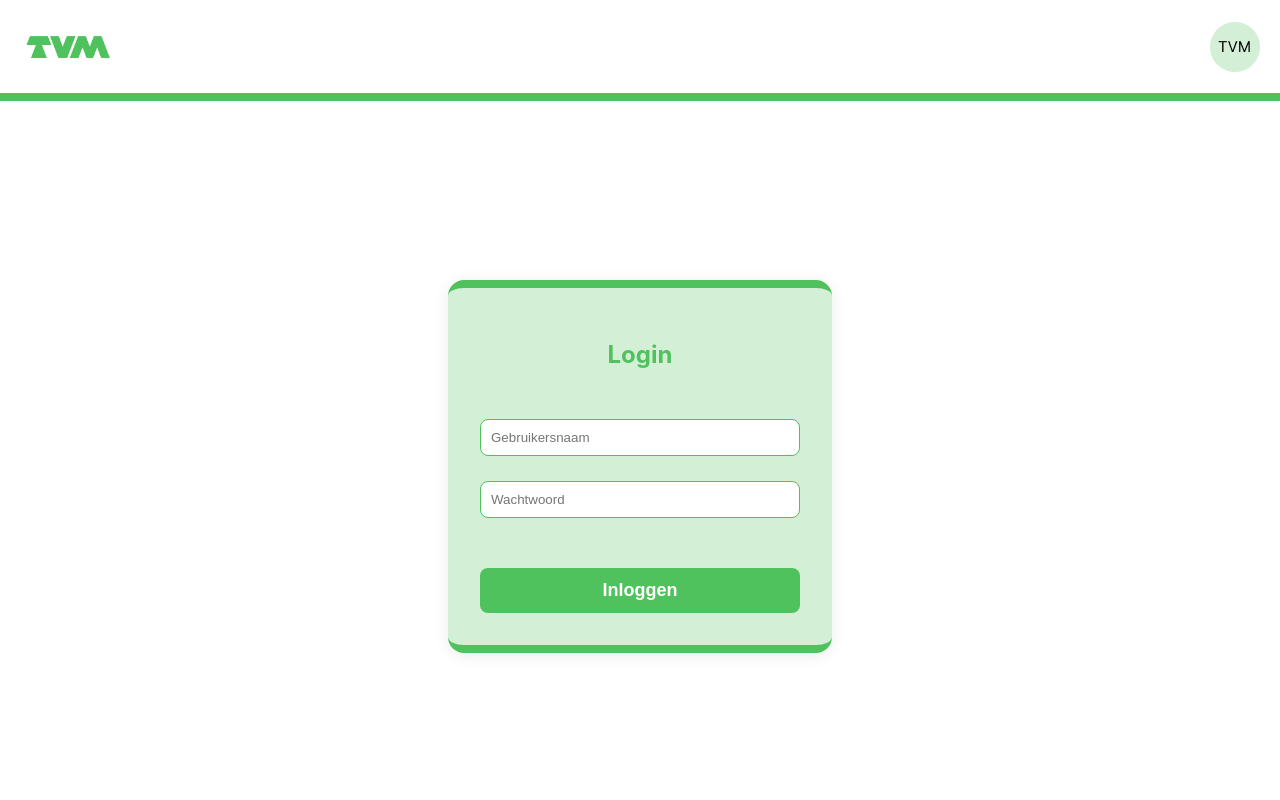
Scenario: Shows error message on failed login
In the field with placeholder "Gebruikersnaam": (640, 438) [480, 419, 800, 456], type "invalidUser"
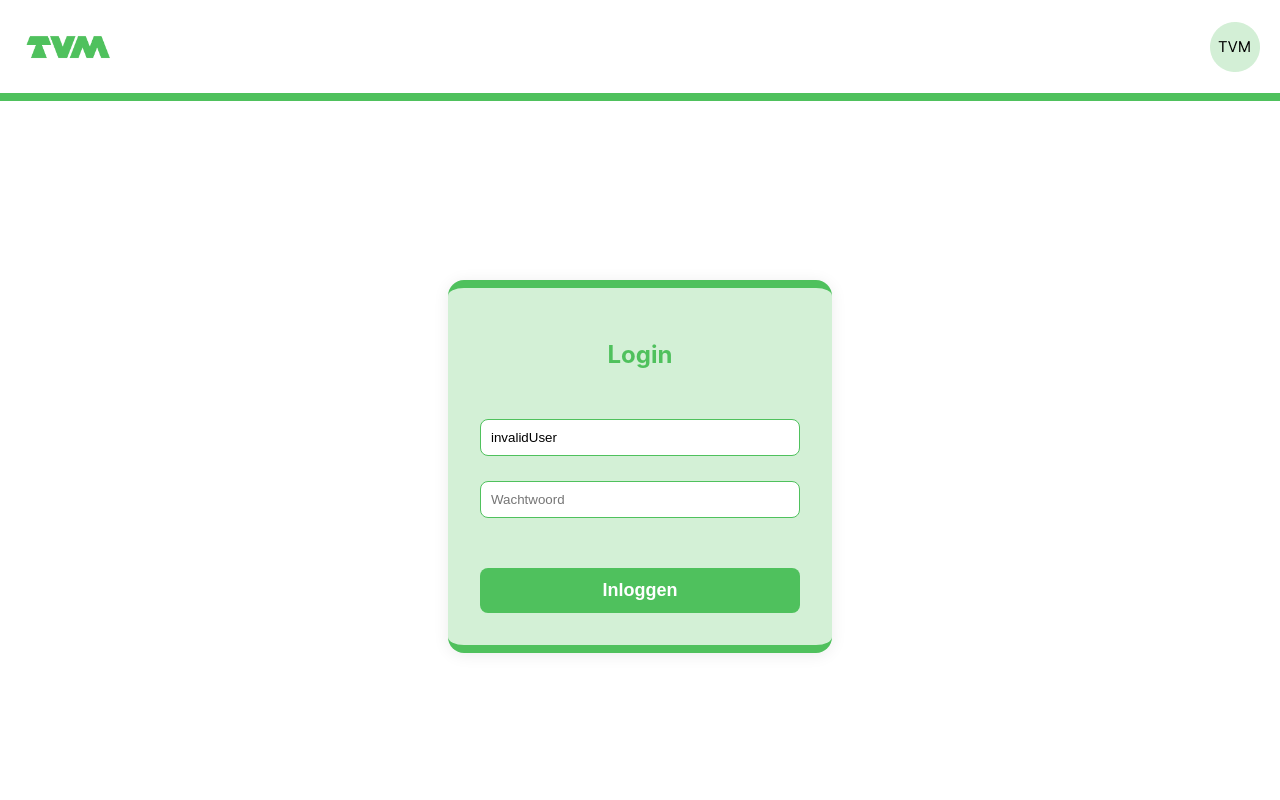
In the password field with placeholder "Wachtwoord": (640, 500) [480, 481, 800, 518], type "invalidPass"
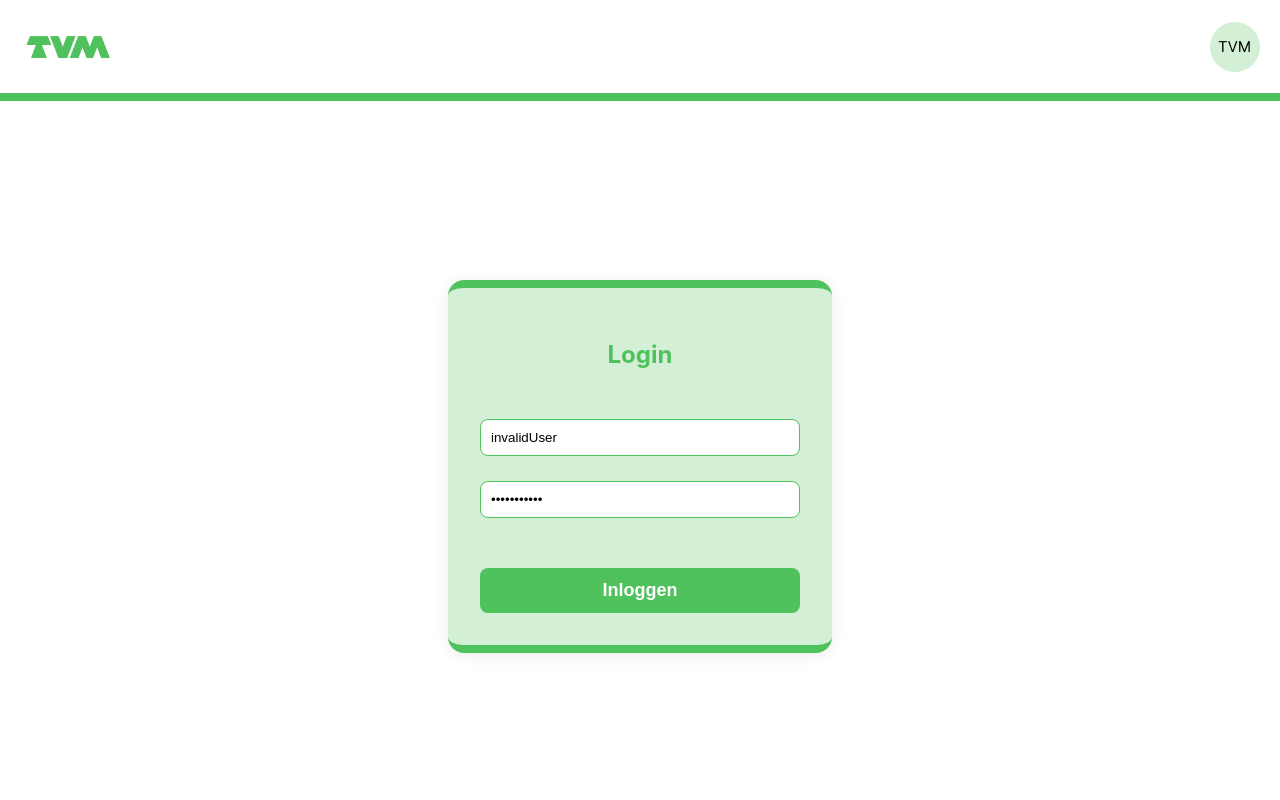
Click the button "Inloggen": (640, 591) [480, 568, 800, 613]
(page scrolled)
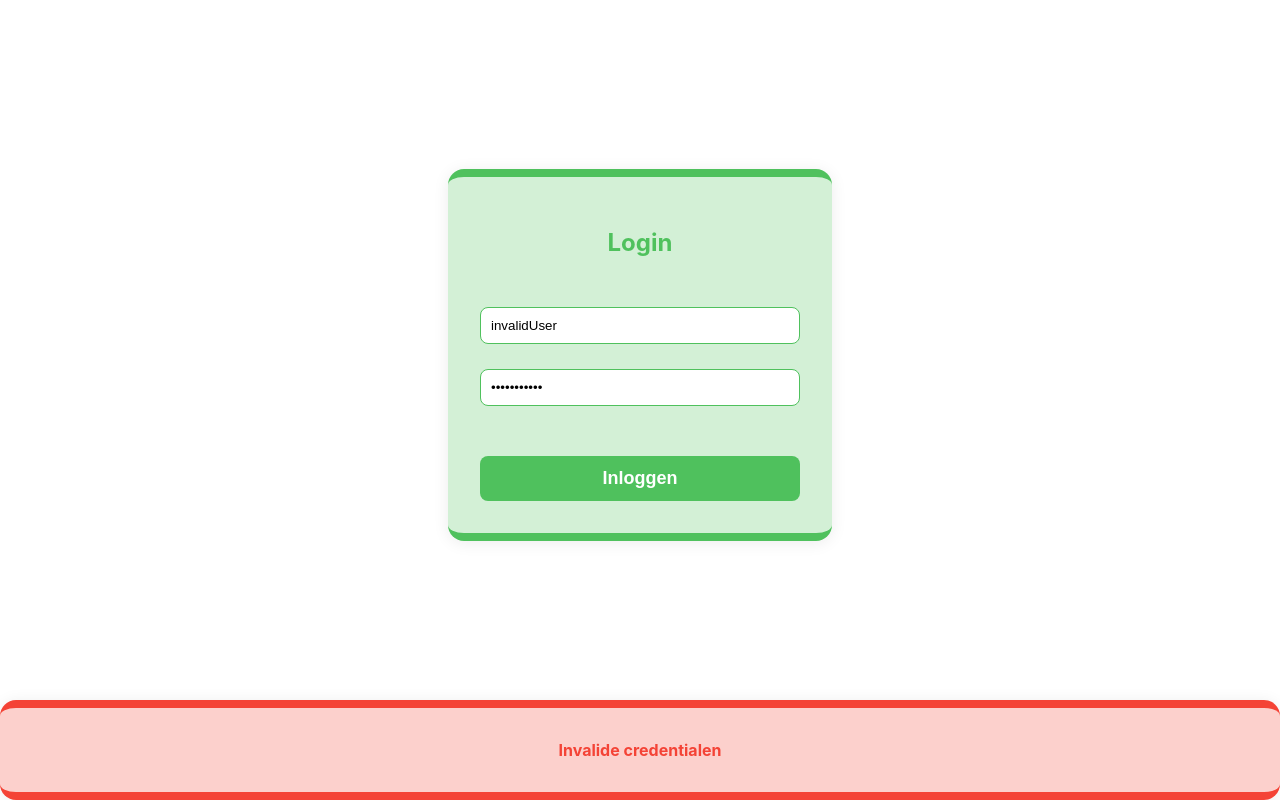
Result: the text "Invalide credentialen" is shown at [0, 700, 1279, 799]
